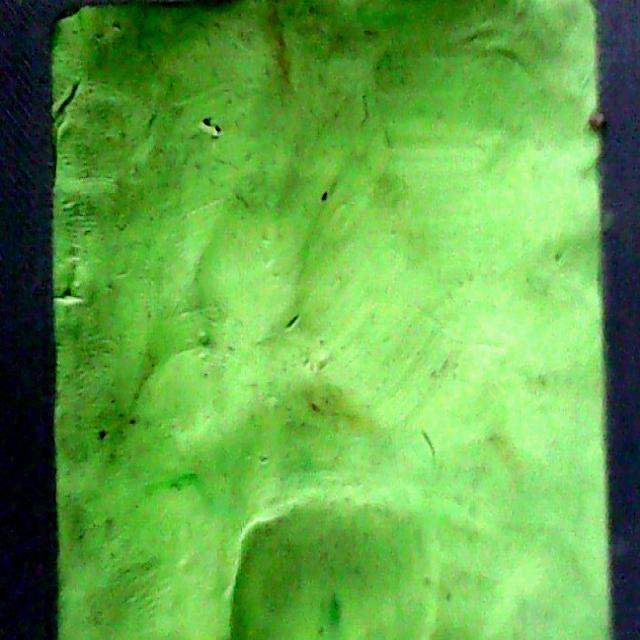block: (0, 13, 636, 640)
